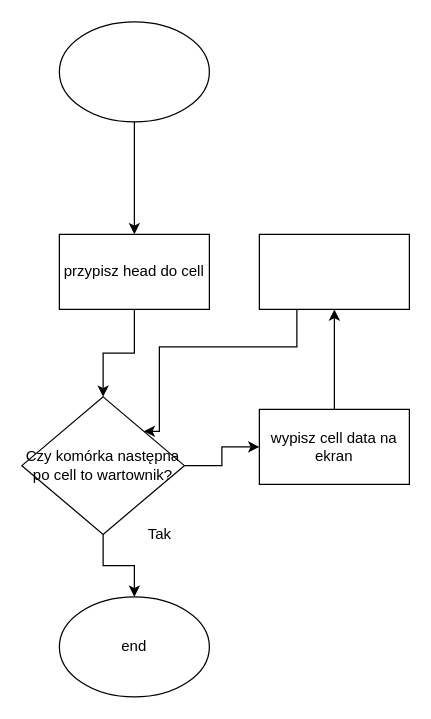
The diagram is 431 pixels wide and 719 high, and some of its shapes have lost their labels. The shapes that lost their labels are listed below. From the top down, each one's centre as x and y in pixels, then its label:
At point 133,71: "start".
At point 333,271: "przypisz komórkę następną po cell do cell (cell = cell.next)".
